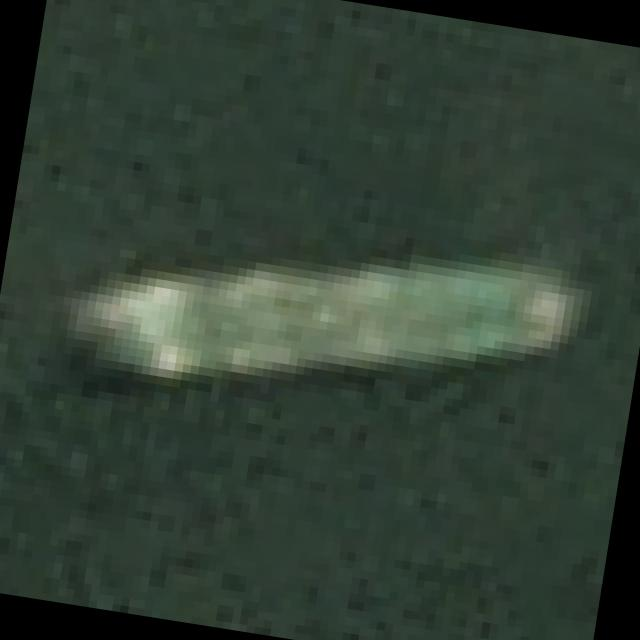ship: (42, 124, 618, 494)
